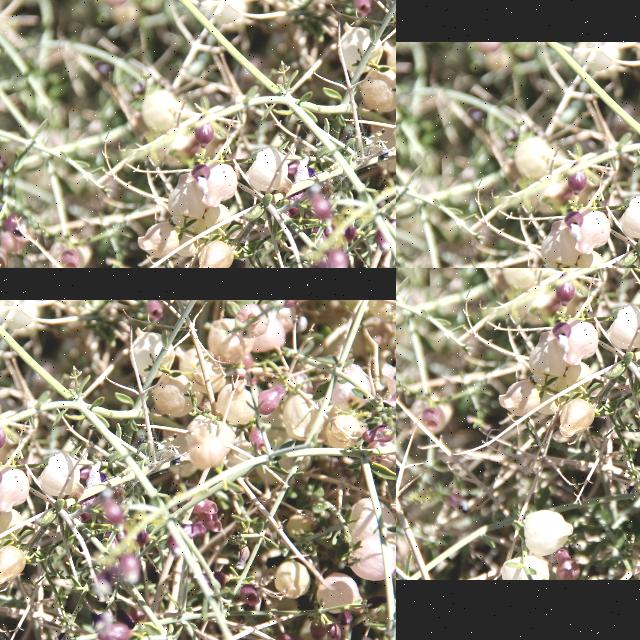flower: (224, 123, 368, 225), (102, 95, 206, 192), (552, 210, 640, 268), (305, 213, 396, 268), (348, 12, 396, 109), (303, 0, 387, 21)
overlap: (89, 0, 337, 268)
